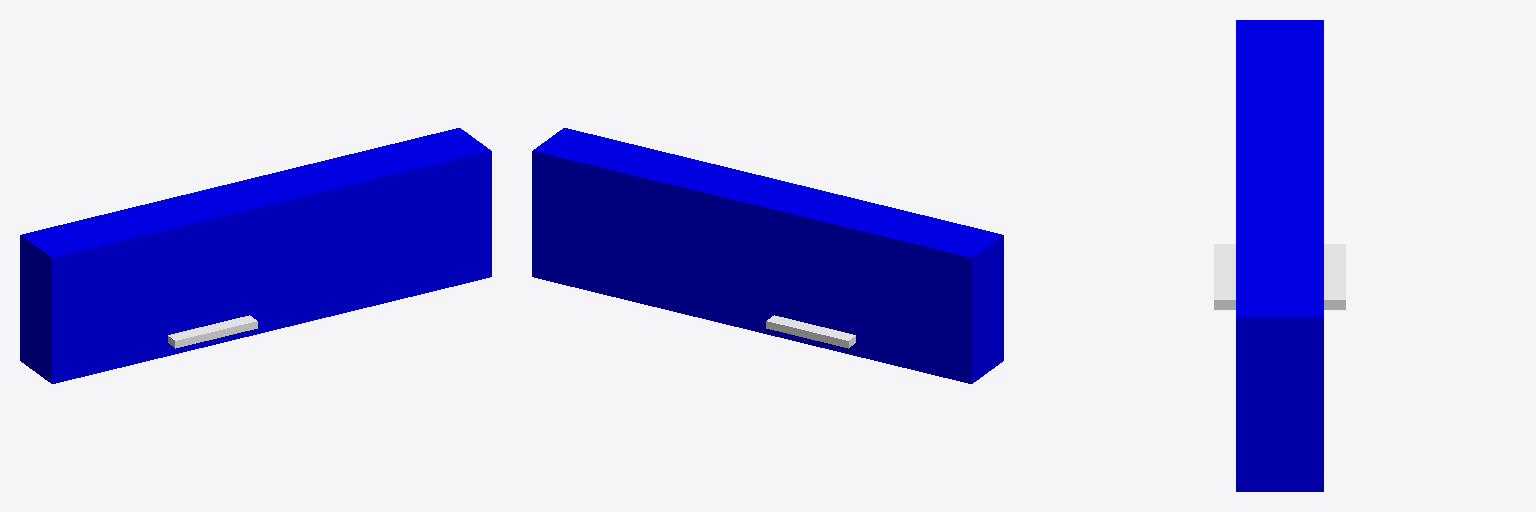
The robot description file, URDF, robot "xy_unilivers":
<?xml version="1.0"?>
<robot name="xy_unilivers">

  <link name="base_link">
    <visual>
      <geometry>
        <box size="0.80 0.10 0.22" />
      </geometry>
      <origin xyz="0.3 0 0.08" />
      <material name="blue">
        <color rgba="0.0 0.0 1.0 0.5" />
      </material>
    </visual>
  </link>

  <joint name="base_to_charriot" type="prismatic">
    <parent link="base_link" />
    <child link="Charriot" />
    <origin xyz="0 0 0" rpy="0 0 0" />
    <axis xyz="1 0 0" />
    <limit lower="0.02" upper="0.2" effort="1000" velocity="0.5" />
  </joint>
  <link name="Charriot">
    <visual>
      <geometry>
        <box size="0.150 0.150 0.013" />
      </geometry>
      <origin xyz="0.075 0.0 0.0" />
      <material name="white">
        <color rgba="1.0 1.0 1.0 0.8" />
      </material>
    </visual>
  </link>

</robot>

--- What the picture shows (computed from the rendered views, not written in the file) ---
The picture shows the robot from 3 angles, left to right: view 1: azimuth 30°, elevation 25°; view 2: azimuth 150°, elevation 25°; view 3: azimuth 270°, elevation 25°; orthographic projection.
Robot: xy_unilivers — 2 links, 1 joints (1 prismatic); root link base_link; default pose: joints at zero except 1 at the middle of their limits (base_to_charriot = 0.11).
Links seen in each view (by area): view 1: base_link, Charriot; view 2: base_link, Charriot; view 3: base_link, Charriot.
Boxes of the visible links, x1,y1,x2,y2 form: base_link: (20,128,491,383); Charriot: (168,315,257,348); base_link: (532,128,1003,383); Charriot: (766,315,855,348); base_link: (1236,20,1323,491); Charriot: (1214,244,1345,309).
Size in the robot's own frame: 0.8 by 0.15 by 0.22 metres.
Geometry: primitives only (box / cylinder / sphere), no mesh files.